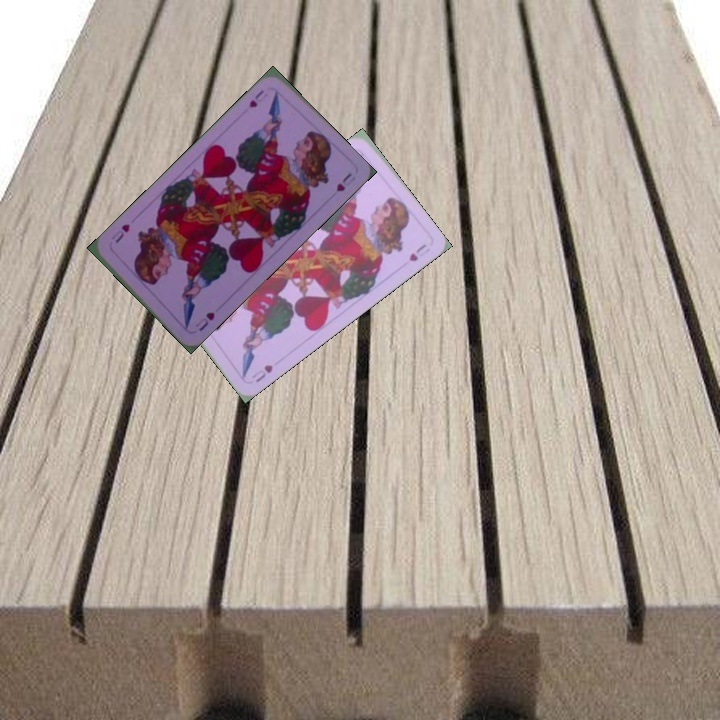HU: (248, 360, 276, 385), (191, 308, 217, 334), (245, 85, 270, 111)
